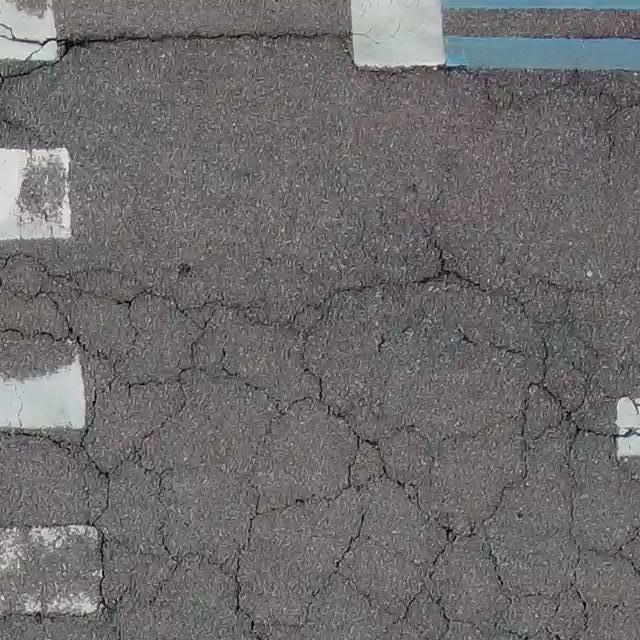GRIETA: (0, 32, 345, 90), (342, 42, 500, 113), (512, 82, 639, 110), (0, 22, 63, 47)
PIEL DE COCODRILO: (0, 242, 639, 639)
